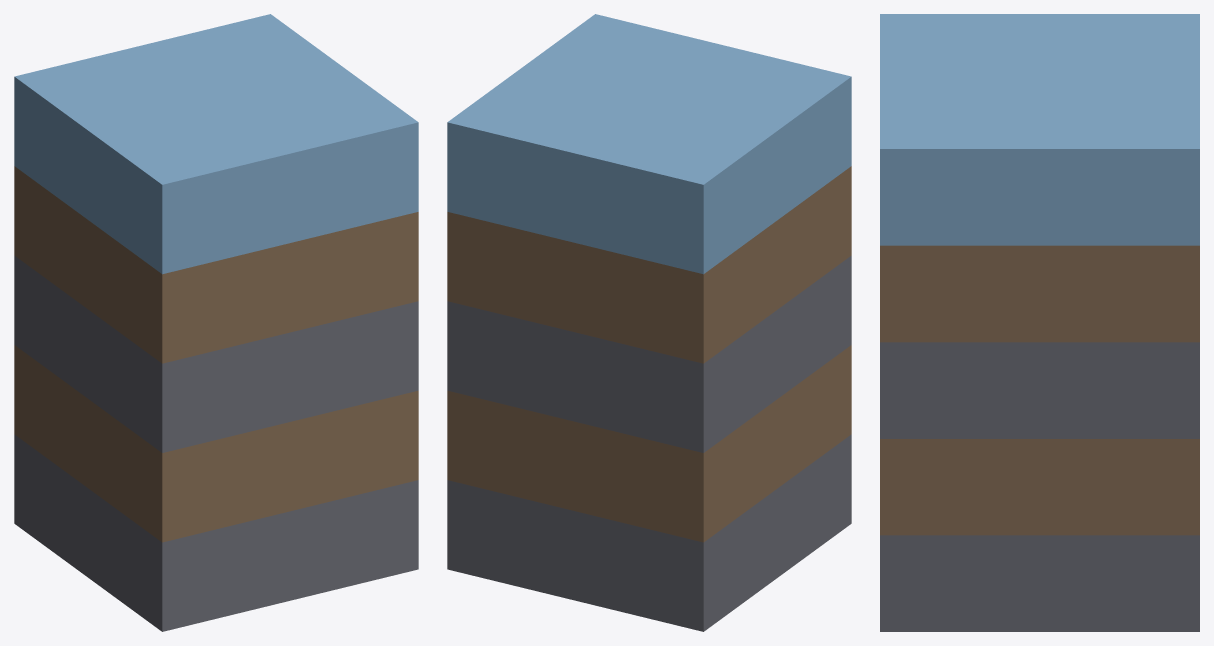
Rendered from Prop_Farm_Rain_Barrel.fbx.
The picture shows the model from 3 angles, left to right: view 1: azimuth 30°, elevation 25°; view 2: azimuth 150°, elevation 25°; view 3: azimuth 270°, elevation 25°; orthographic projection. The views are drawn at different scales.
Parts seen in each view (by area): view 1: Prop_Farm_Rain_Barrel; view 2: Prop_Farm_Rain_Barrel; view 3: Prop_Farm_Rain_Barrel.
Part boxes in pixels (bbox=[...]): Prop_Farm_Rain_Barrel: bbox=[14, 14, 418, 631]; Prop_Farm_Rain_Barrel: bbox=[447, 14, 851, 631]; Prop_Farm_Rain_Barrel: bbox=[880, 14, 1199, 631].
Bounding box in the file's own units: 30 × 30 × 50.
